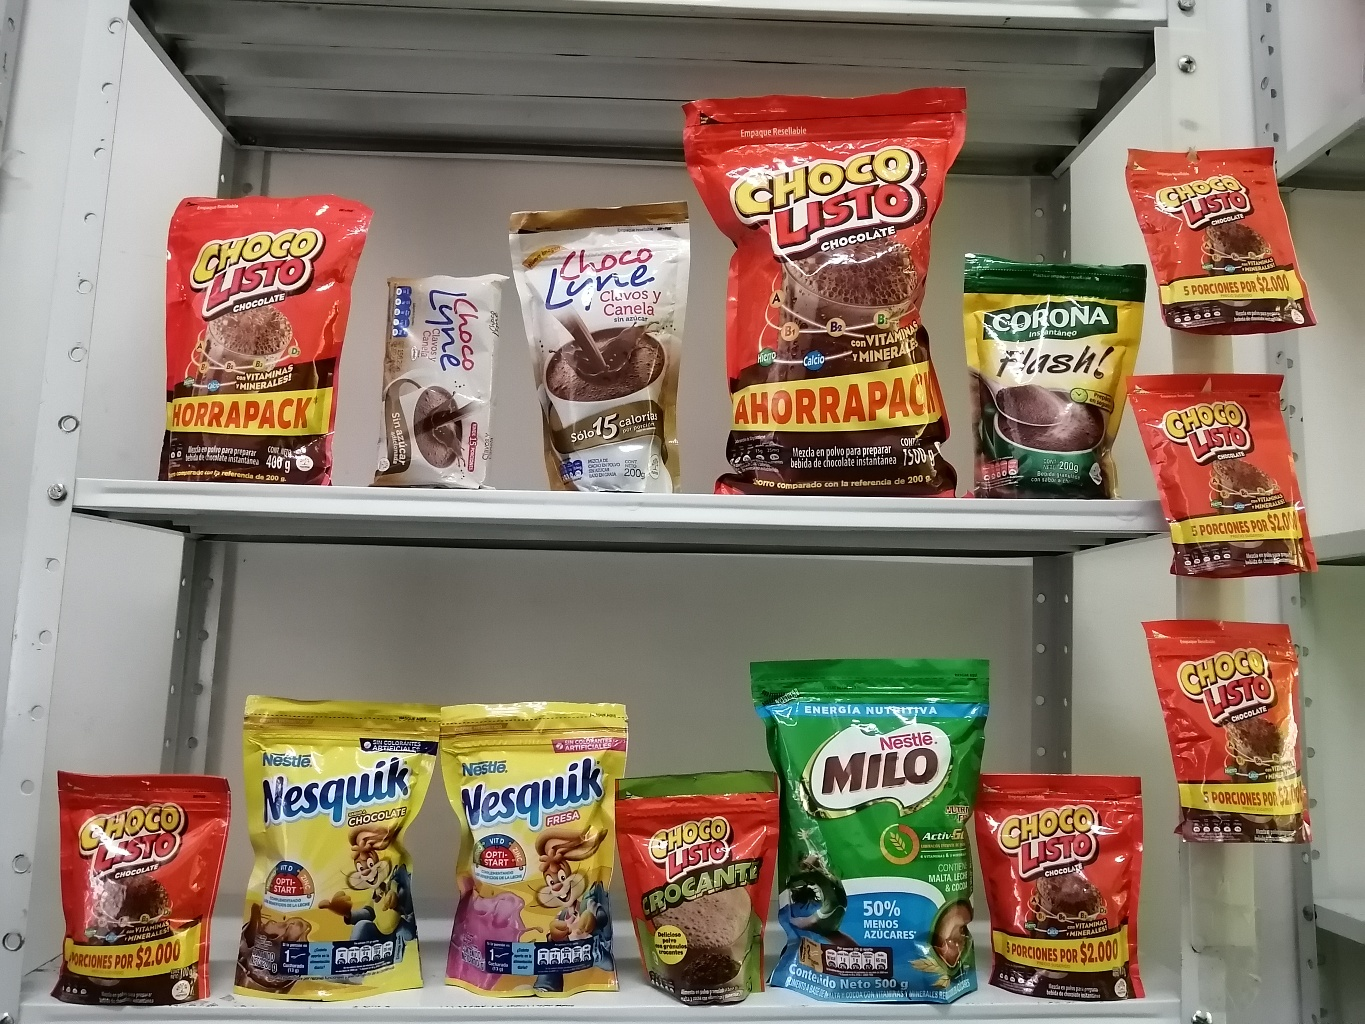COL0170102DYP10000: (606, 768, 764, 1005)
COL0170103DYP1,500: (685, 86, 973, 494)
COL0170103DYP10000: (53, 748, 232, 1013)
COL0170103DYP40000: (155, 183, 372, 496)
COL0170205DYP50000: (747, 658, 994, 1007)
COL0170303DYP20000: (240, 694, 436, 1006)
COL0170305DYP20000: (439, 694, 632, 1006)
